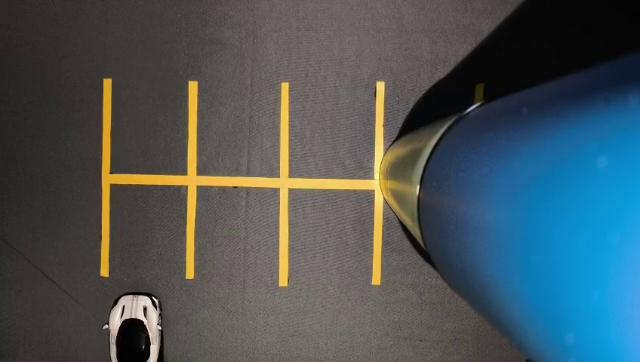toy_car: (86, 267, 199, 362)
